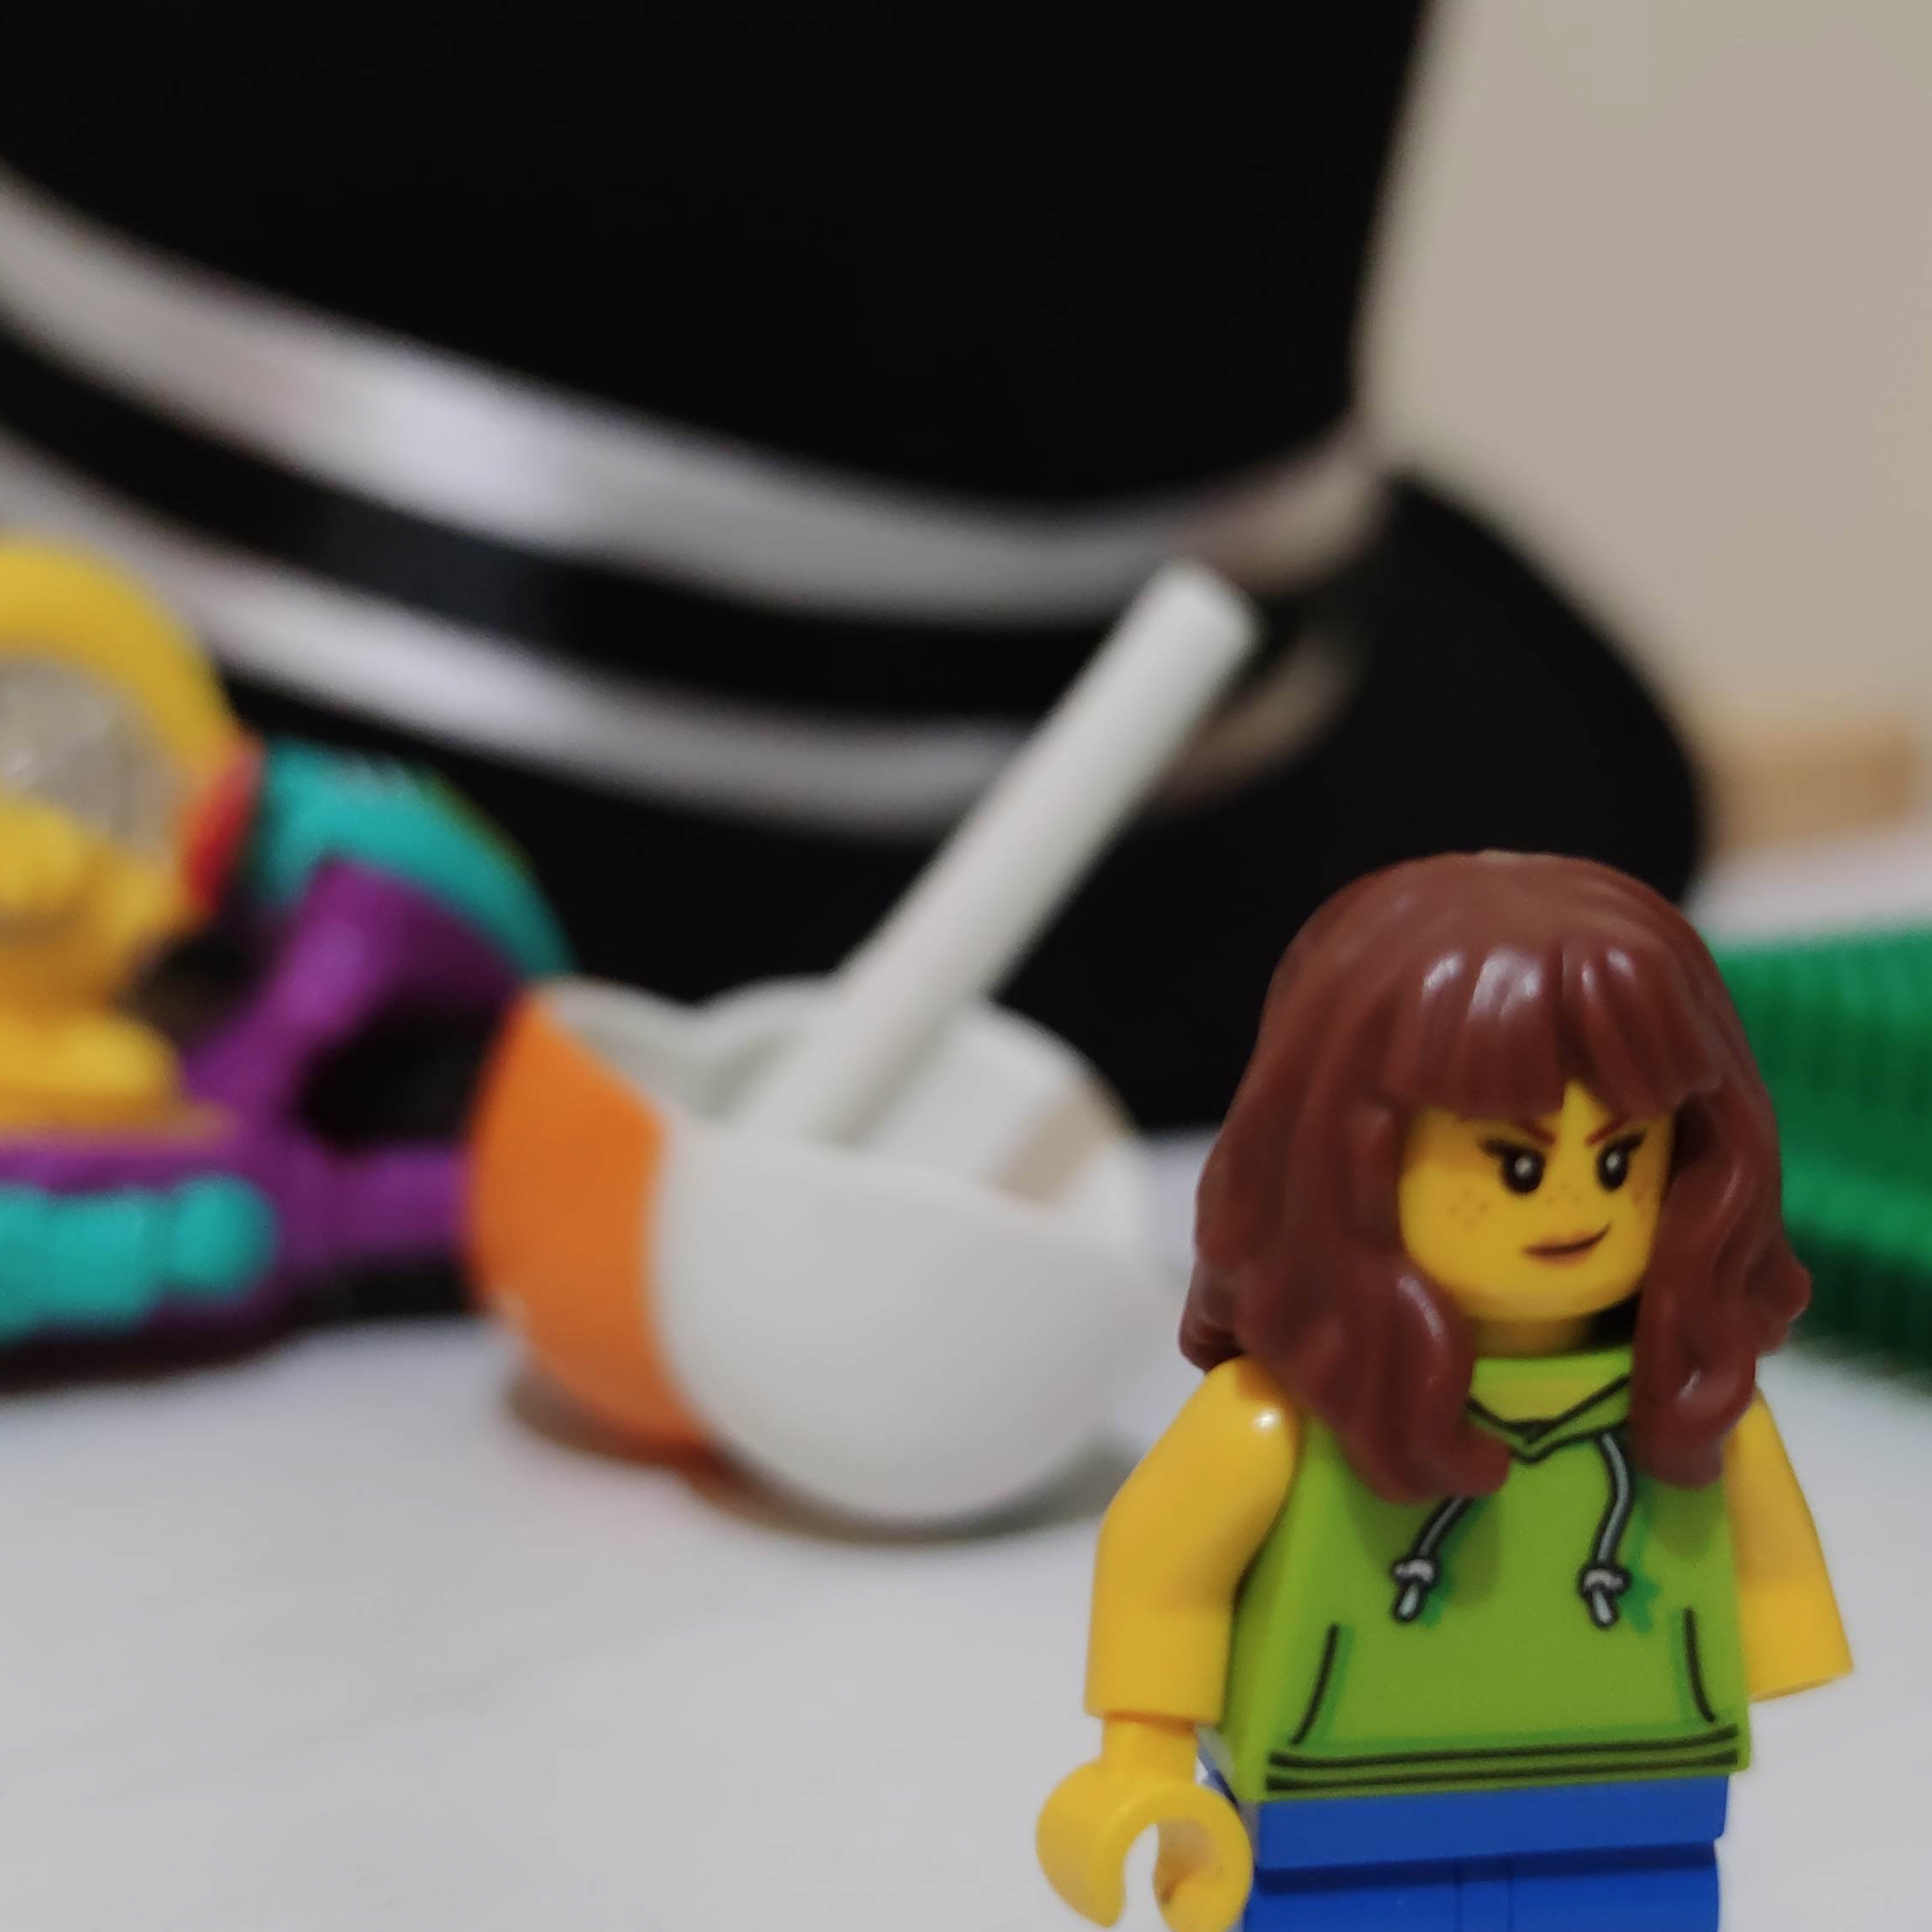lego: (1033, 849, 1851, 1932)
